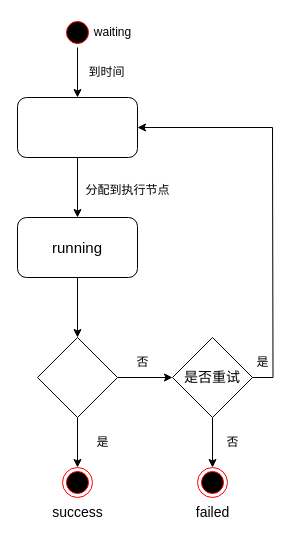
Image size: 300x545. Some labels were removed from this diagram. The centre of each missing label's shape, as x and y in pixels:
"runnable" belongs at pixel 77 127.
"是否成功" belongs at pixel 77 377.
